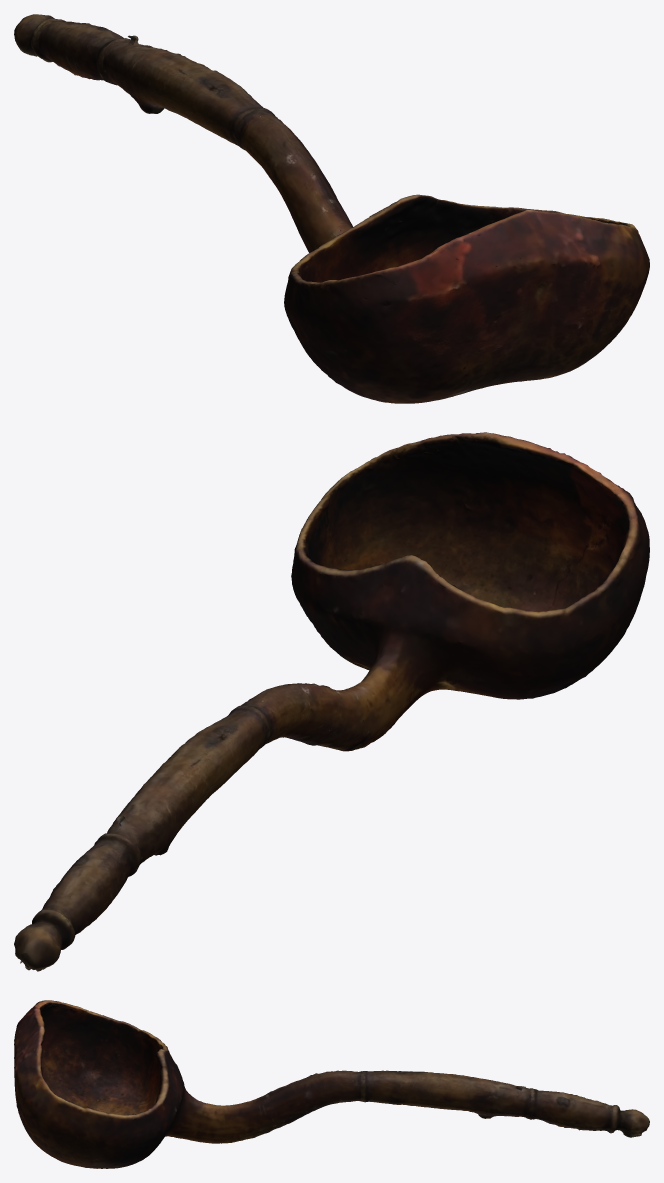
Rendered from ojau.glb.
The picture shows the model from 3 angles, top to bottom: view 1: azimuth 30°, elevation 25°; view 2: azimuth 150°, elevation 25°; view 3: azimuth 270°, elevation 25°; orthographic projection. The views are drawn at different scales.
Visible parts, largest first — view 1: Polygon Reduction; view 2: Polygon Reduction; view 3: Polygon Reduction.
Part boxes in pixels (box(x1,y1,x2,y2)): Polygon Reduction: box(14, 14, 649, 403); Polygon Reduction: box(14, 432, 649, 971); Polygon Reduction: box(14, 1000, 649, 1168).
Size of the model in its own units: 78.23 by 46.45 by 216.
Materials: 1 (1 with a texture image).
